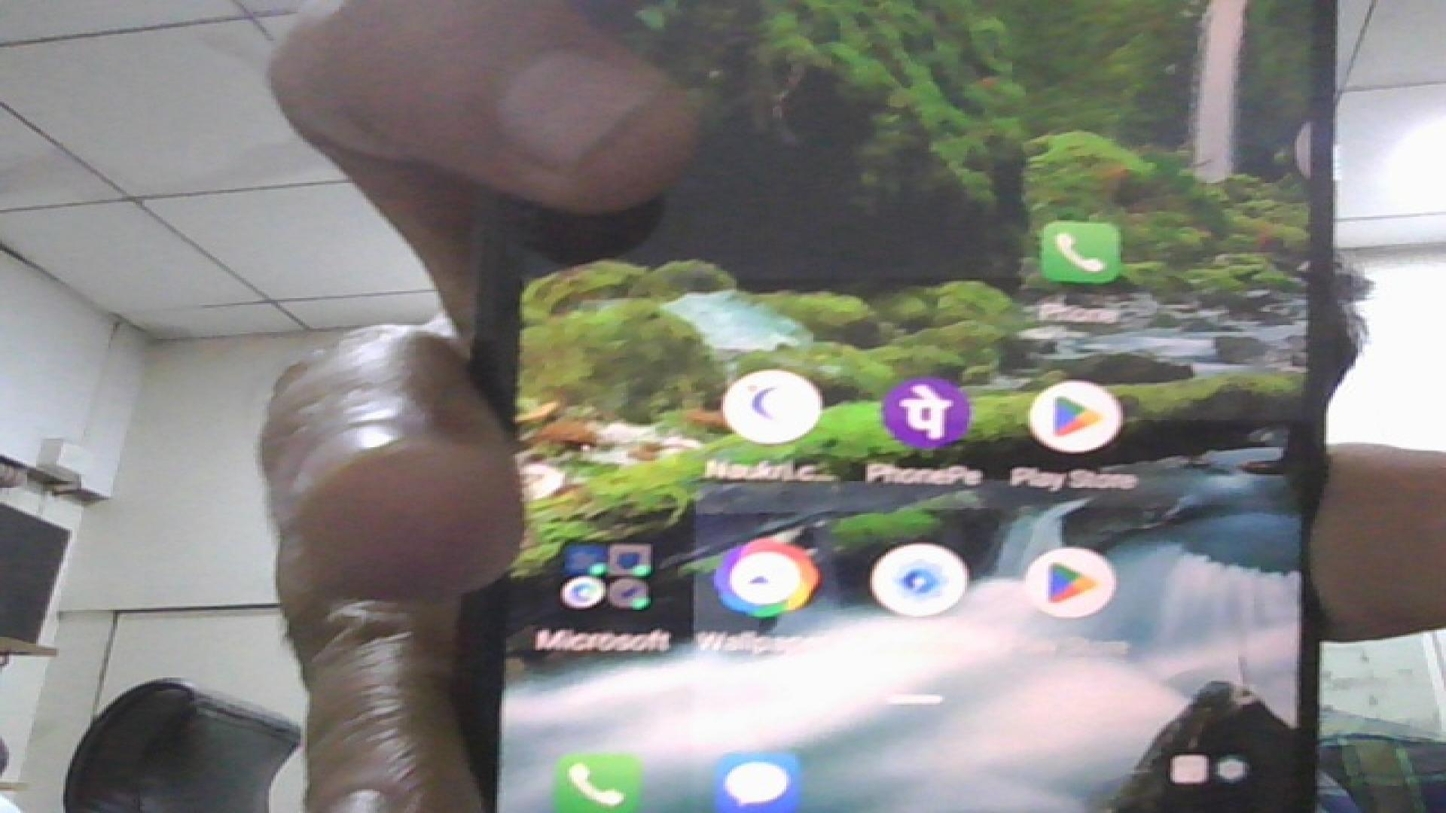phone: (473, 0, 1346, 806)
